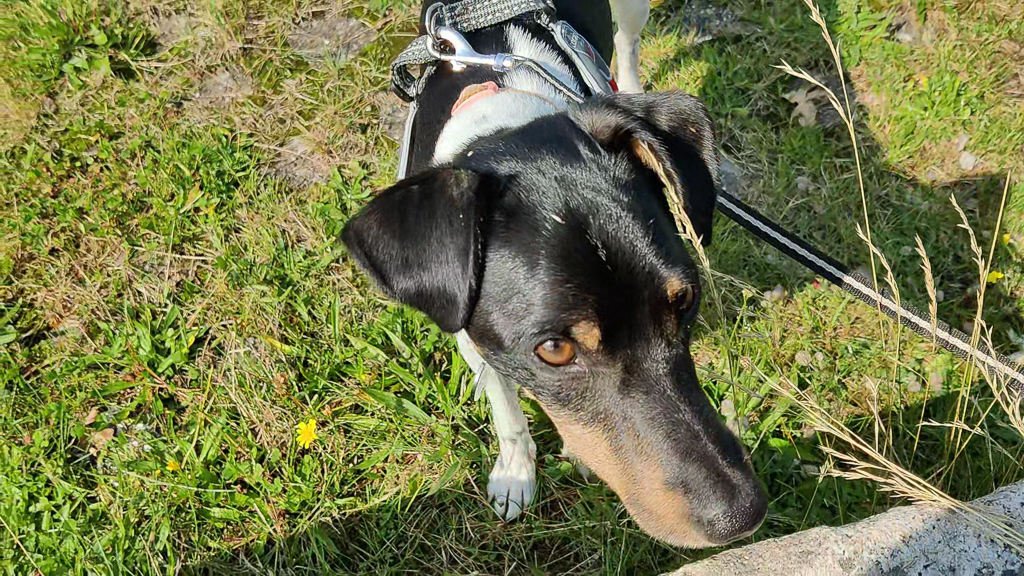Dog: (328, 0, 791, 556)
